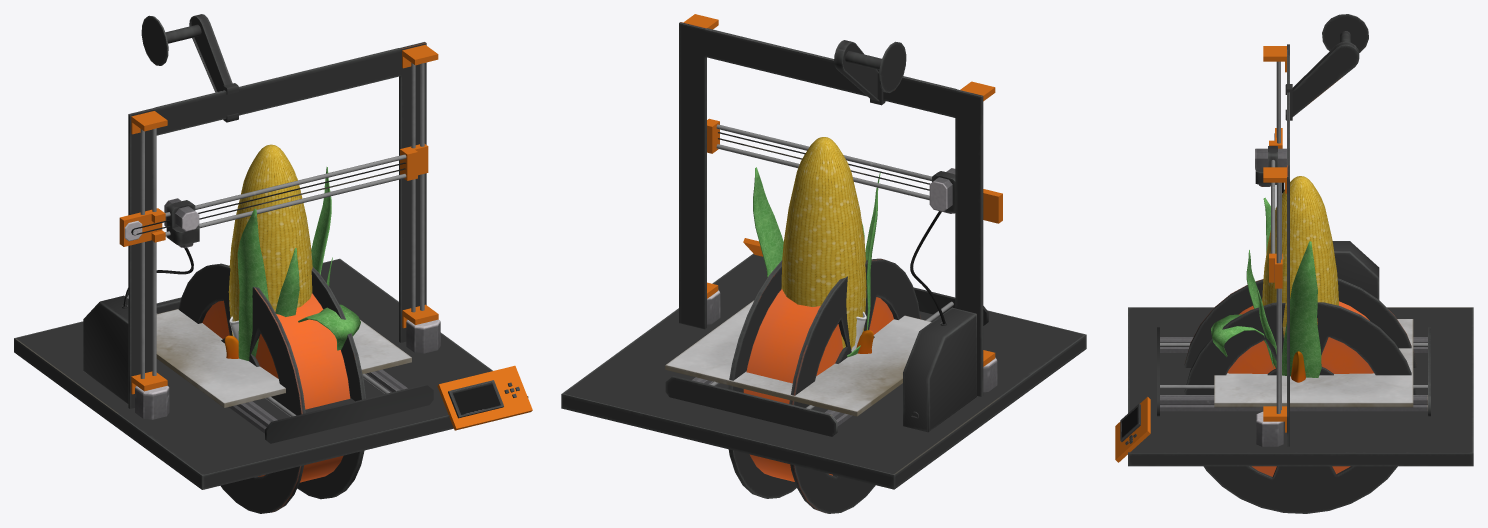
File: Props.fbx
The picture shows the model from 3 angles, left to right: view 1: azimuth 30°, elevation 25°; view 2: azimuth 150°, elevation 25°; view 3: azimuth 270°, elevation 25°; orthographic projection. The views are drawn at different scales.
Visible parts, largest first — view 1: Stampante, FilamentoPLA, Mais; view 2: Stampante, FilamentoPLA, Mais; view 3: Stampante, FilamentoPLA, Mais.
Boxes of the visible parts, bbox=[...] form: Stampante: bbox=[14, 14, 532, 489]; FilamentoPLA: bbox=[178, 263, 365, 513]; Mais: bbox=[228, 144, 360, 360]; Stampante: bbox=[561, 14, 1086, 489]; FilamentoPLA: bbox=[727, 258, 920, 513]; Mais: bbox=[753, 137, 880, 356]; Stampante: bbox=[1115, 14, 1473, 466]; FilamentoPLA: bbox=[1184, 278, 1416, 513]; Mais: bbox=[1211, 176, 1338, 377].
Bounding box in the file's own units: 9.75 × 10.11 × 13.83.
